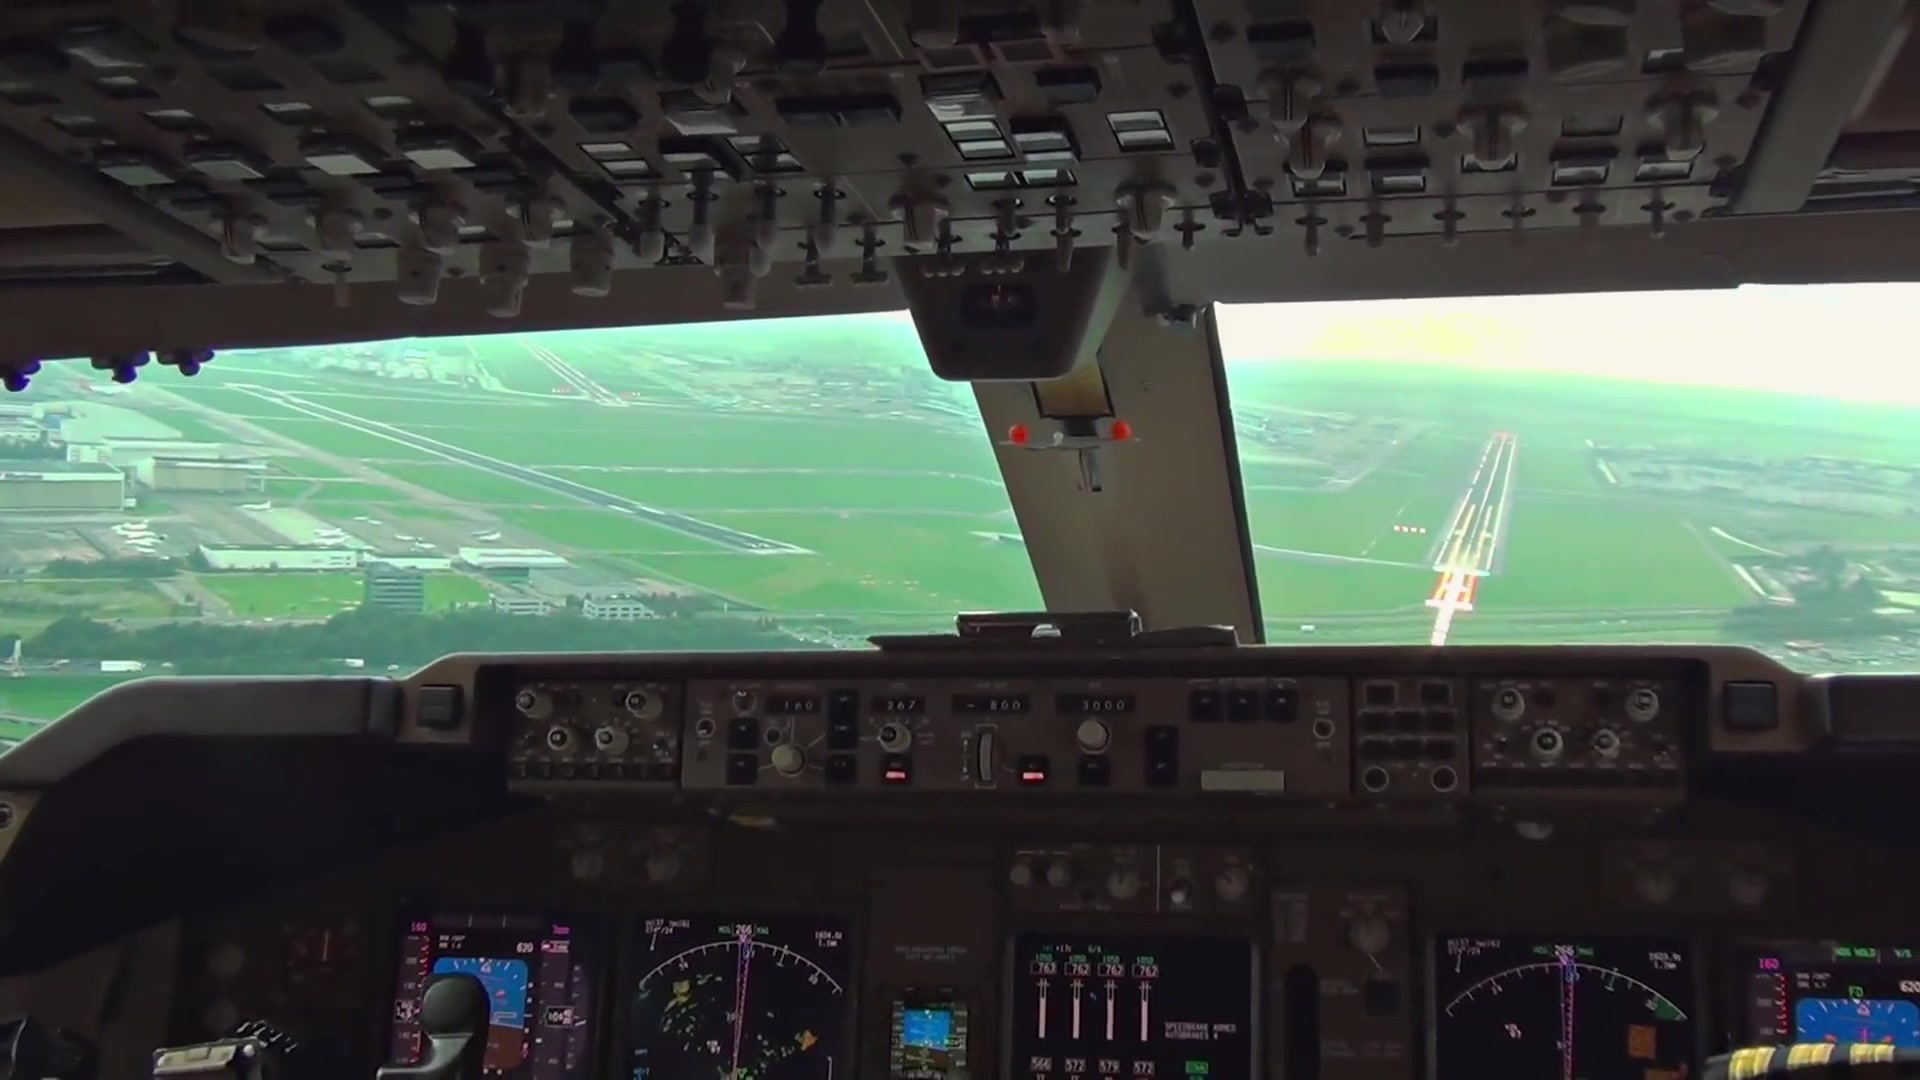runway: (247, 386, 806, 560), (1424, 433, 1524, 578), (513, 339, 646, 419)
